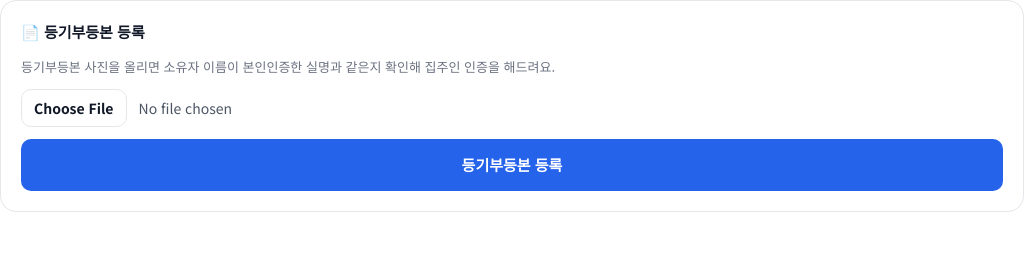
OwnerVerificationCard › shows the failure message and keeps the form when the upload fails
Earlier steps of the test are not shown.
Click the button "등기부등본 등록" at (512, 165), box x1=21 y1=139 x2=1003 y2=191
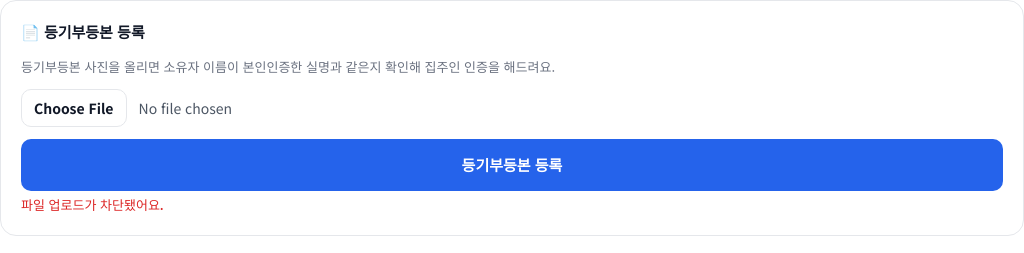
Check: the file field named "등기부등본 사진" is shown, box x1=21 y1=89 x2=1003 y2=127
Check: the text "파일 업로드가 차단됐어요." is shown, box x1=21 y1=195 x2=164 y2=214
